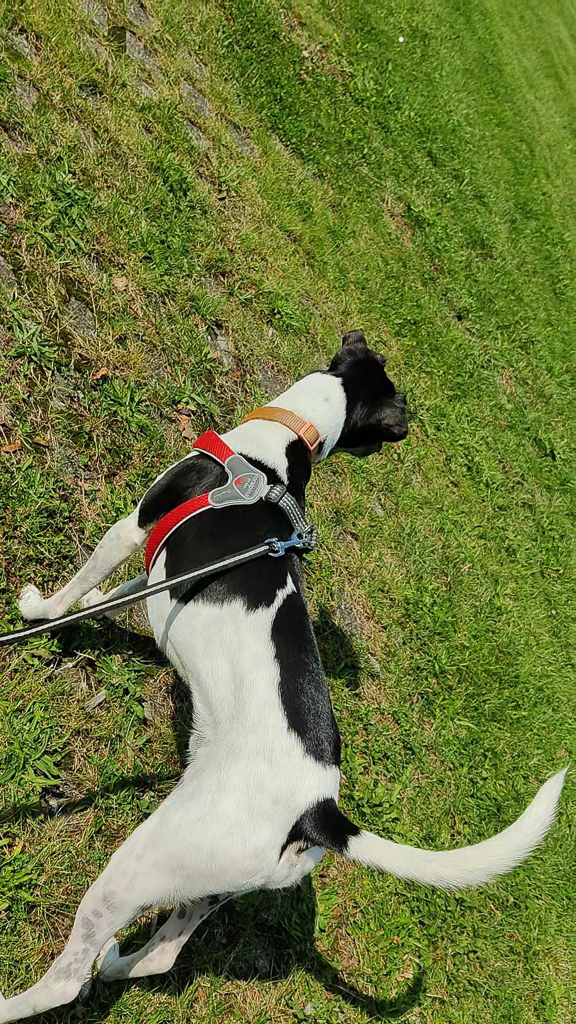Dog: (0, 316, 576, 1024)
